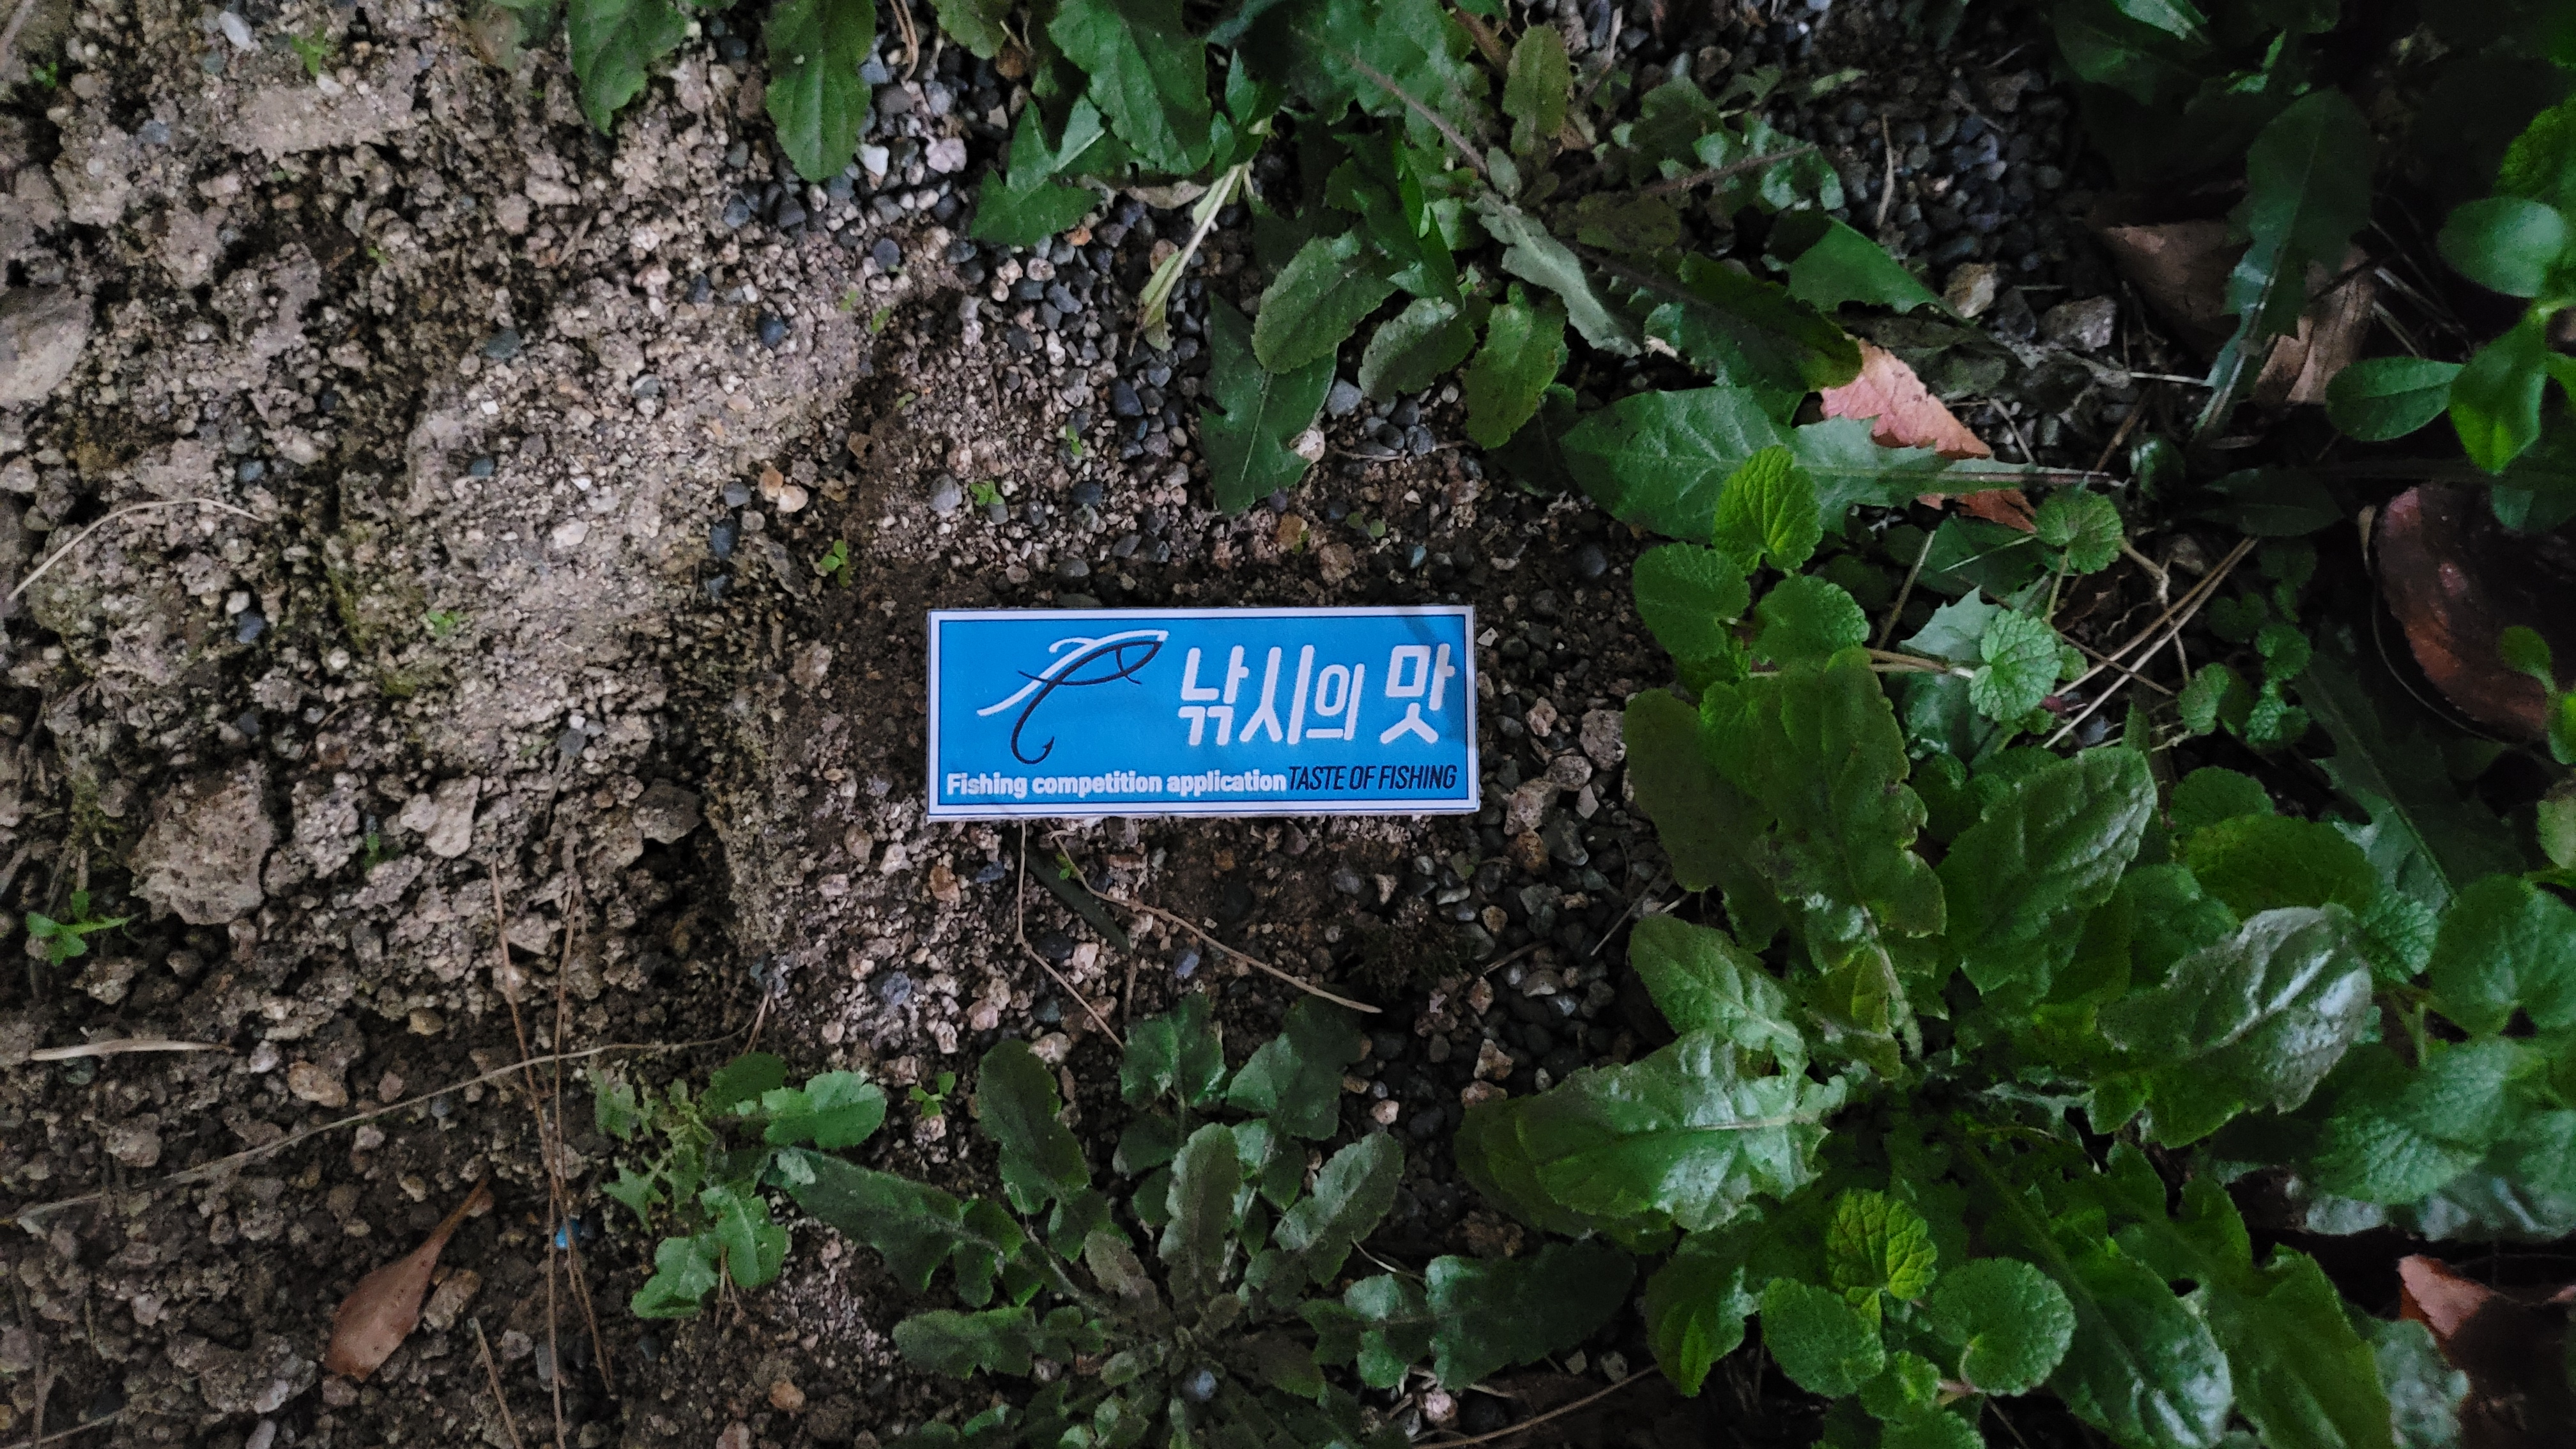tag: (927, 607, 1481, 817)
